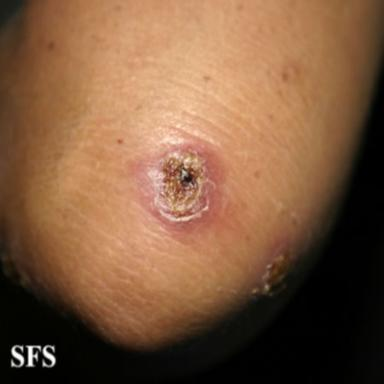Impetigo: (132, 140, 224, 241), (248, 243, 293, 298)
